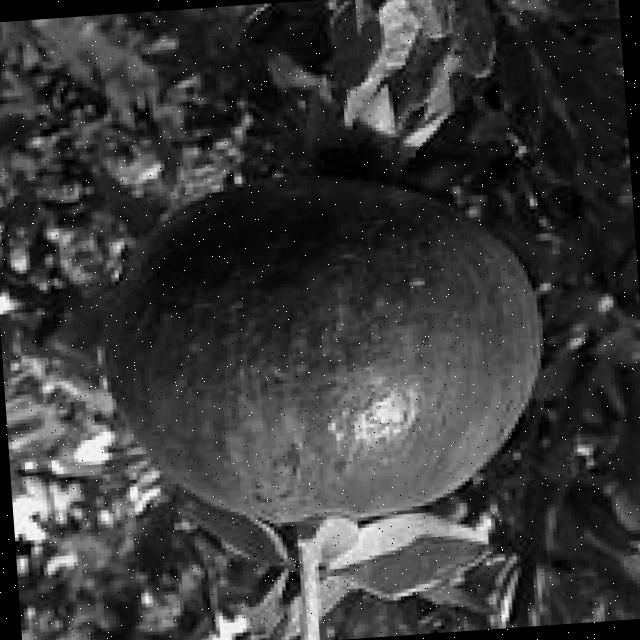Pomegranate: (90, 150, 560, 540)
